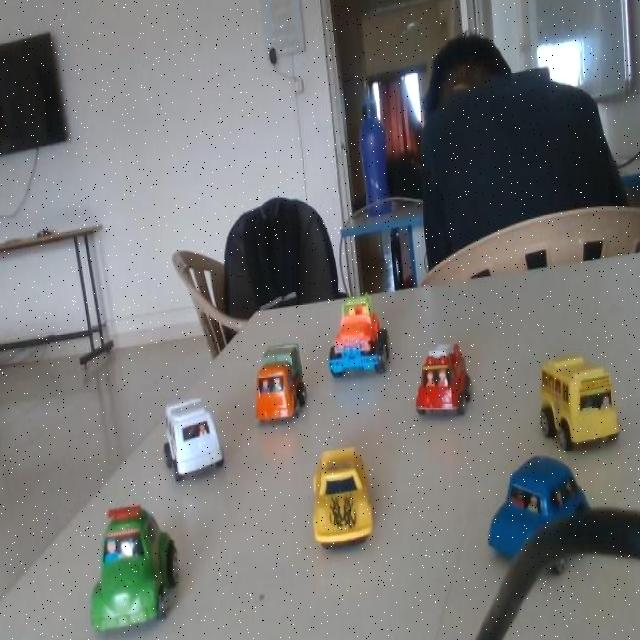car: (16, 461, 220, 640), (249, 432, 417, 586), (129, 372, 240, 510), (481, 458, 573, 578), (322, 280, 404, 386), (243, 325, 310, 443), (526, 366, 597, 447), (406, 341, 469, 431)
